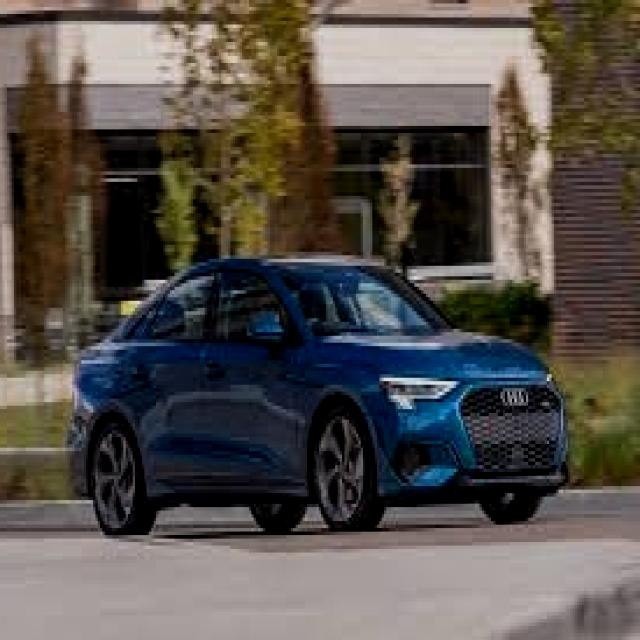blue: (70, 266, 569, 514)
